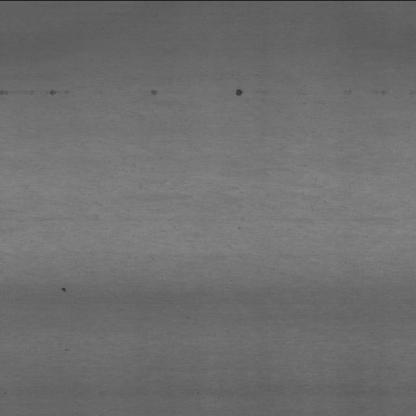oil_spot: (0, 87, 68, 98), (228, 86, 256, 96), (137, 88, 161, 96)
